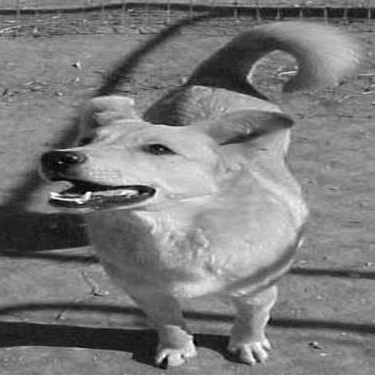dog: (31, 11, 367, 370)
